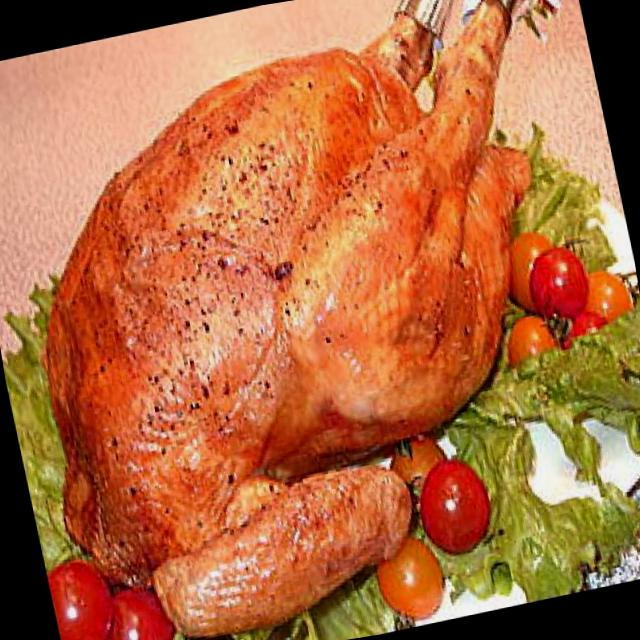Chicken: (0, 0, 561, 559)
